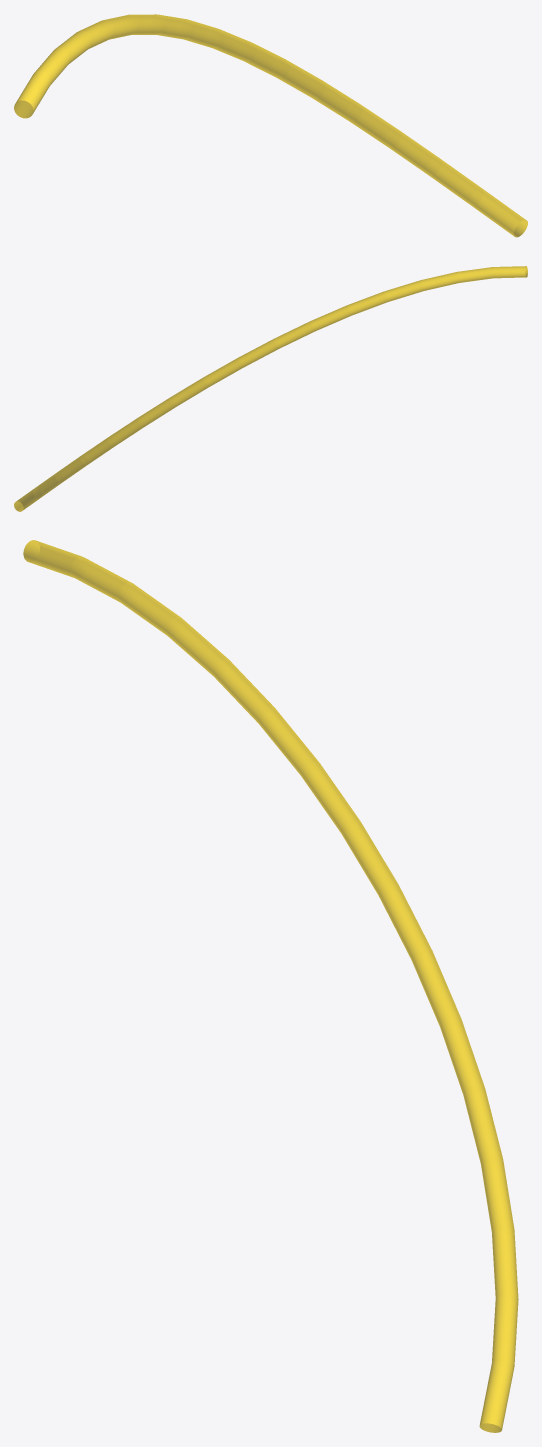
The model's file is Event_15818458_track_65.fbx.
3 renders of one model, top to bottom at view 1: azimuth 30°, elevation 25°; view 2: azimuth 150°, elevation 25°; view 3: azimuth 270°, elevation 25°, orthographic. The views are drawn at different scales.
Parts seen in each view (by area): view 1: Model; view 2: Model; view 3: Model.
Boxes of the visible parts, box(x1,y1,x2,y2) form: Model: box(14, 14, 527, 237); Model: box(14, 266, 527, 511); Model: box(23, 540, 518, 1432).
Size of the model in its own units: 1.61 by 0.9935 by 0.8631.
